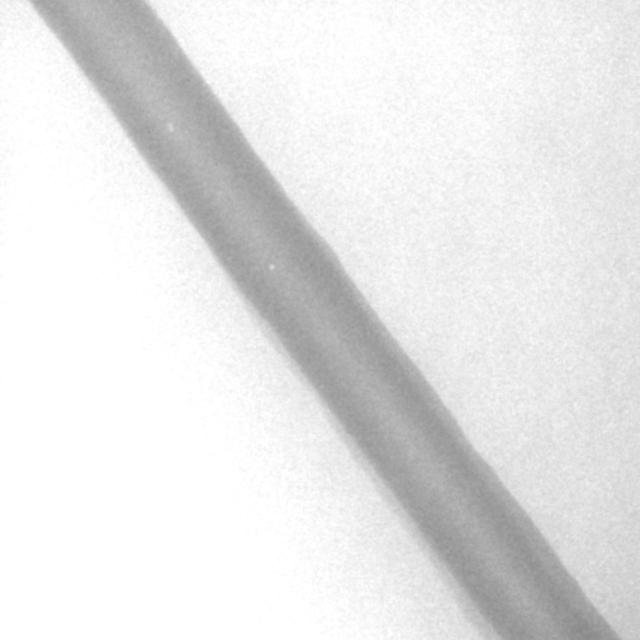air hole: (165, 121, 176, 136), (267, 259, 275, 271)
